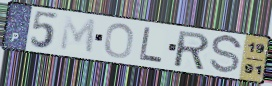5: (29, 11, 62, 51)
L: (137, 26, 165, 66)
M: (58, 14, 98, 57)
O: (103, 22, 136, 60)
R: (174, 29, 212, 72)
S: (208, 34, 244, 76)
